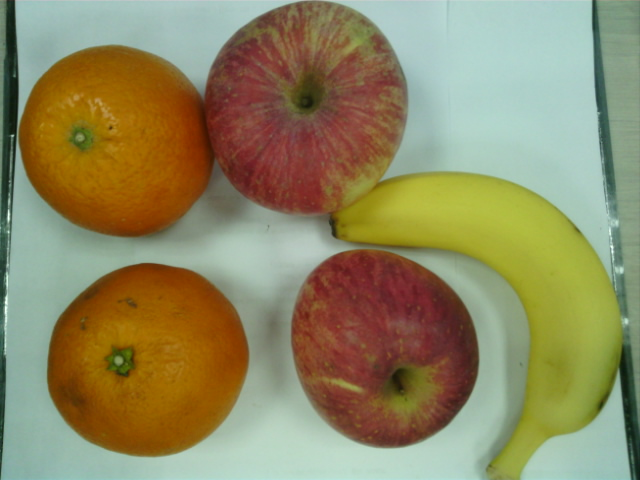normal_apple: (206, 1, 409, 217), (292, 249, 479, 449)
normal_banana: (329, 173, 622, 480)
normal_orange: (49, 263, 248, 457), (20, 45, 205, 237)
